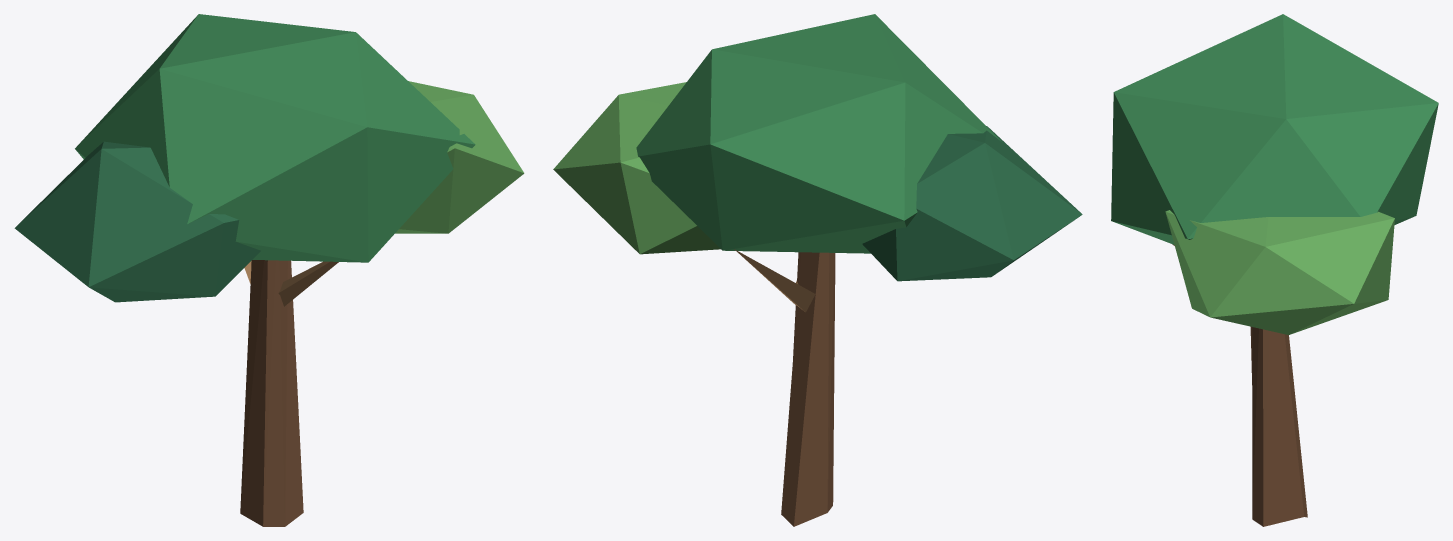
Rendered from world_tree_canopy_m.obj.
The picture shows the model from 3 angles, left to right: view 1: azimuth 30°, elevation 25°; view 2: azimuth 150°, elevation 25°; view 3: azimuth 270°, elevation 25°; orthographic projection. The views are drawn at different scales.
Visible parts, largest first — view 1: world_tree_canopy_m; view 2: world_tree_canopy_m; view 3: world_tree_canopy_m.
Boxes of the visible parts, left/top/right/bottom form: world_tree_canopy_m: left=14, top=14, right=524, bottom=526; world_tree_canopy_m: left=553, top=14, right=1082, bottom=526; world_tree_canopy_m: left=1111, top=14, right=1438, bottom=526.
Bounding box in the file's own units: 13.16 × 13.1 × 8.54.
